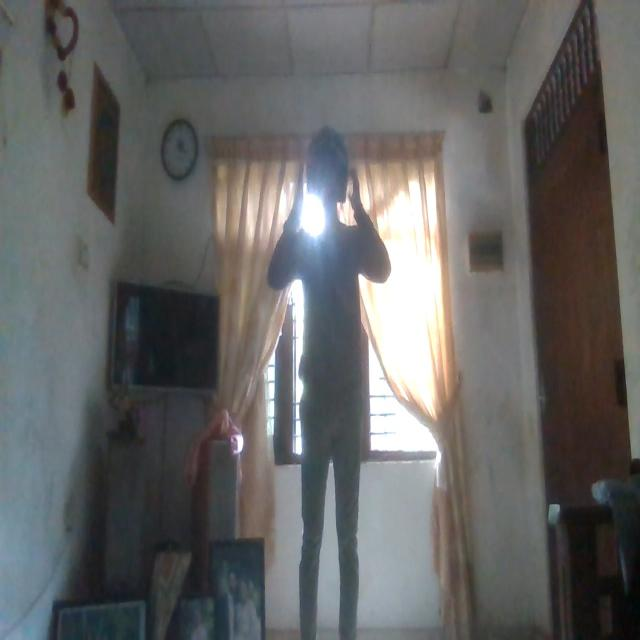Helmet_Wearer: (302, 120, 352, 227)
Person: (273, 132, 387, 640)
